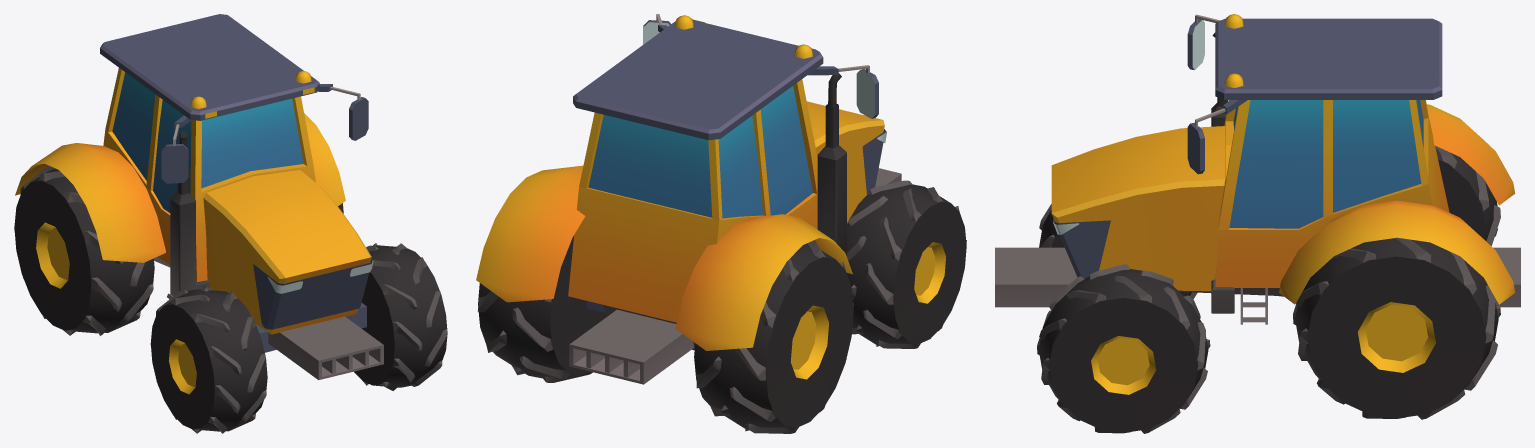
File: Tracktor.fbx
3 renders of one model, left to right at view 1: azimuth 30°, elevation 25°; view 2: azimuth 150°, elevation 25°; view 3: azimuth 270°, elevation 25°, orthographic. The views are drawn at different scales.
Visible parts, largest first — view 1: tractor, weel_rear, weel_forward_R, weel_forward_L; view 2: tractor, weel_rear, weel_forward_R; view 3: tractor, weel_rear, weel_forward_L, weel_forward_R.
Boxes of the visible parts, bbox=[...] form: tractor: bbox=[15, 14, 383, 380]; weel_rear: bbox=[14, 165, 343, 335]; weel_forward_R: bbox=[150, 285, 267, 433]; weel_forward_L: bbox=[354, 243, 447, 390]; tractor: bbox=[476, 14, 901, 384]; weel_rear: bbox=[477, 235, 853, 433]; weel_forward_R: bbox=[846, 180, 966, 348]; tractor: bbox=[995, 14, 1520, 324]; weel_rear: bbox=[1293, 145, 1500, 419]; weel_forward_L: bbox=[1037, 264, 1210, 433]; weel_forward_R: bbox=[1039, 204, 1197, 299].
Bounding box in the file's own units: 450 × 487 × 697.
